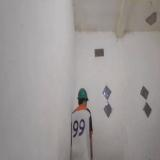Helmet: (77, 87, 89, 104)
